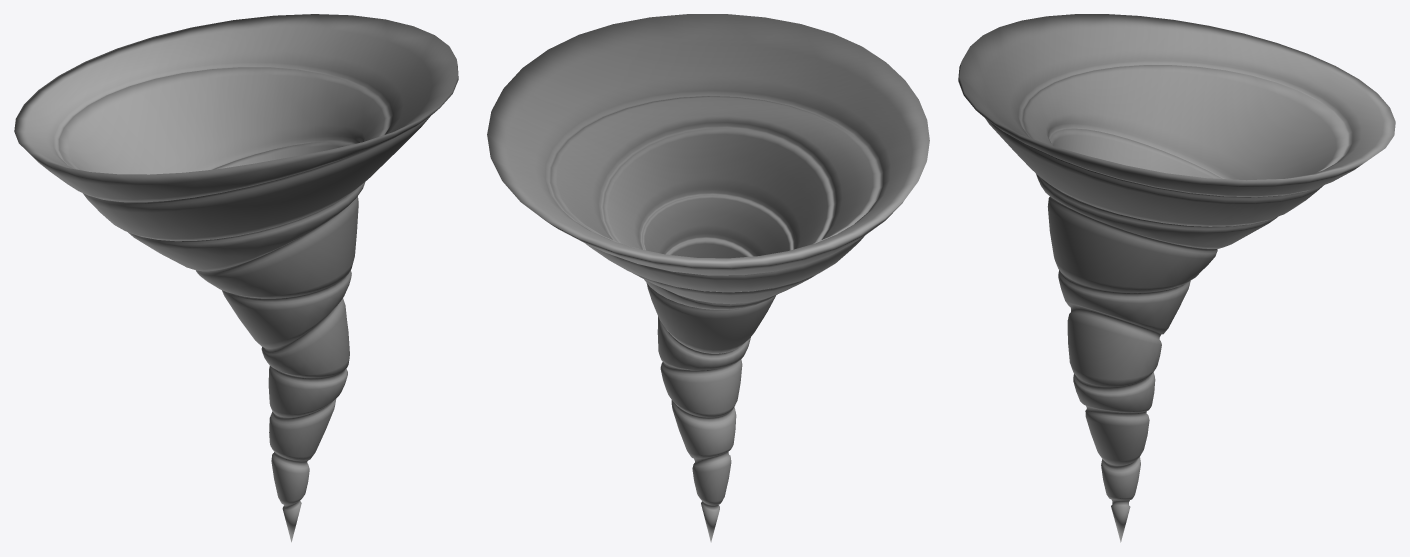
Rendered from asset.gltf.
3 views of the same model, side by side, from view 1: azimuth 30°, elevation 25°; view 2: azimuth 150°, elevation 25°; view 3: azimuth 270°, elevation 25° (orthographic).
Visible parts, largest first — view 1: Tornado; view 2: Tornado; view 3: Tornado.
Part boxes in pixels (x1=…): Tornado: x1=14, y1=14, x2=458, y2=542; Tornado: x1=487, y1=14, x2=929, y2=542; Tornado: x1=958, y1=14, x2=1395, y2=542.
Size of the model in its own units: 880 by 1007 by 864.
1 material, 1 textured.
